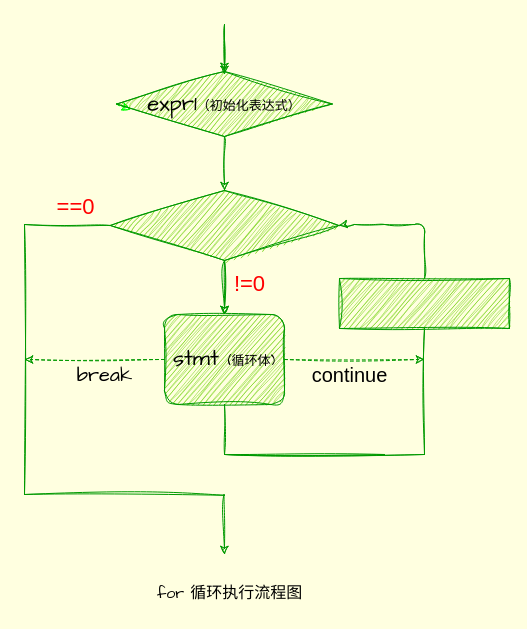
This 527x629 diagram has some shape labels left out. The box of each missing label's shape, as (x1, y1, x2, y2) in pixels:
expr2 (循环条件表达式): (109, 190, 339, 260)
expr3 (更新表达式): (338, 278, 510, 328)
